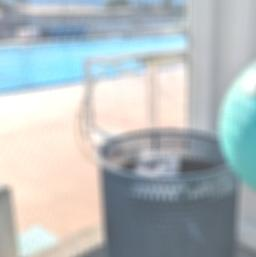algae: (215, 38, 256, 201)
